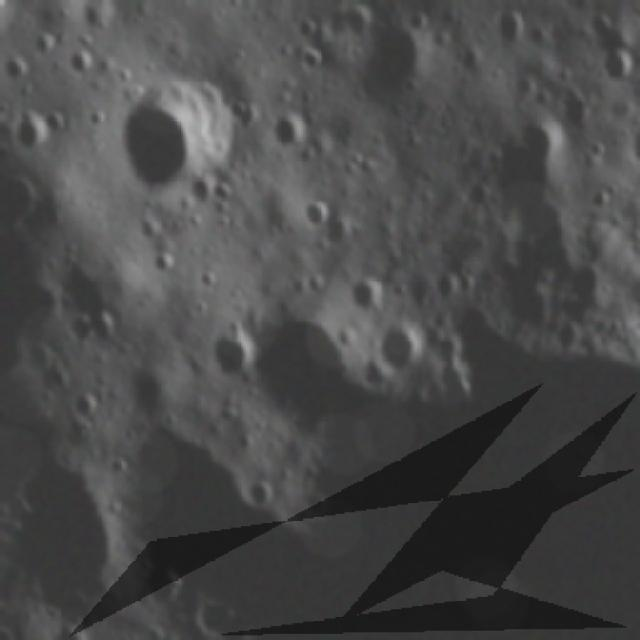crater: (11, 452, 129, 611), (113, 78, 244, 199), (252, 297, 376, 423), (481, 110, 573, 216), (353, 20, 444, 109), (376, 316, 432, 375), (207, 320, 256, 386), (188, 595, 249, 640), (128, 366, 175, 420), (140, 562, 191, 609), (270, 107, 316, 151), (490, 3, 532, 48), (8, 109, 48, 154), (349, 271, 385, 320), (542, 314, 586, 352), (594, 46, 634, 85), (244, 471, 282, 509), (65, 313, 101, 353), (334, 2, 372, 38), (560, 91, 594, 131), (294, 192, 331, 228), (27, 29, 64, 65), (453, 265, 487, 303), (64, 46, 99, 82), (85, 310, 118, 345), (70, 389, 102, 425), (227, 98, 258, 134), (432, 266, 462, 303), (186, 174, 217, 209), (454, 44, 488, 74), (42, 104, 69, 141), (402, 4, 436, 33), (151, 244, 177, 281), (289, 16, 320, 44), (298, 44, 325, 76), (192, 266, 222, 294), (3, 52, 31, 82), (82, 106, 109, 134), (212, 177, 236, 206), (305, 267, 329, 295), (590, 184, 612, 213), (108, 451, 128, 478)
